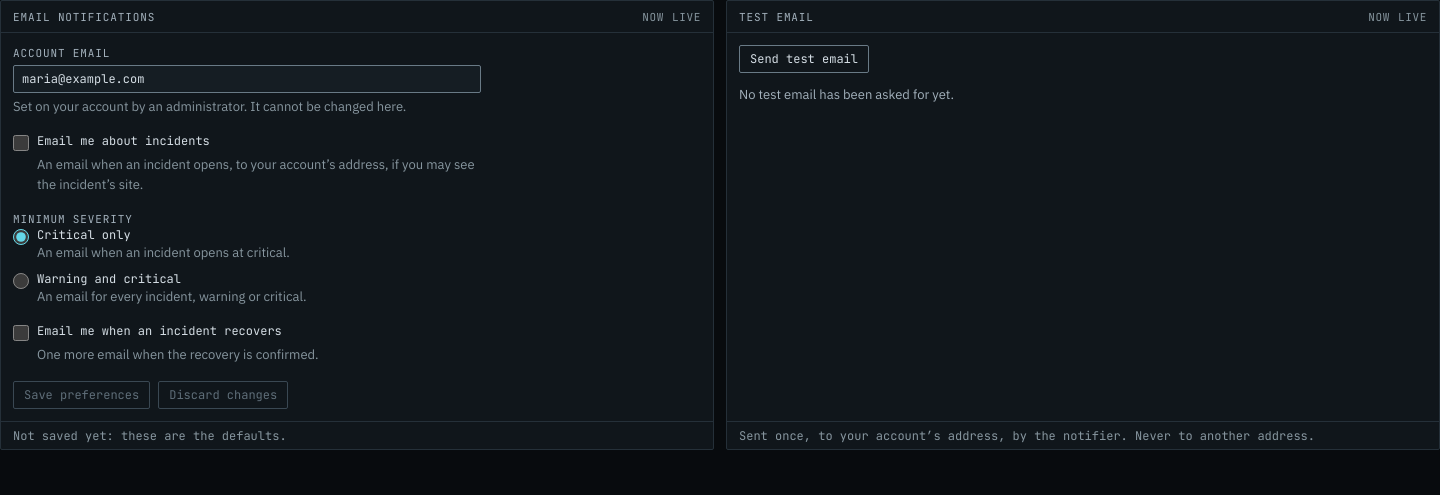
Test: saving the preferences › says what the server finds wrong with a field, under that field, and keeps the form as it was
This screenshot has width=1440, height=495.
Click the radio button labelled "Warning and critical": (21,281) [13,273,29,289]
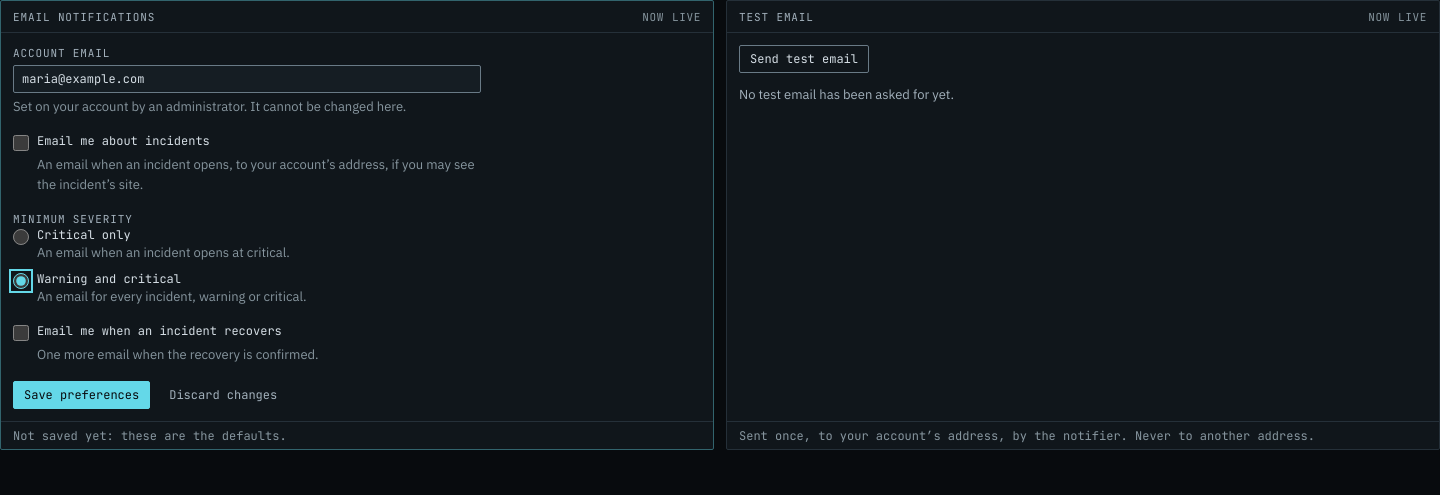
Click the button "Save preferences": (82,395) [13,381,150,409]
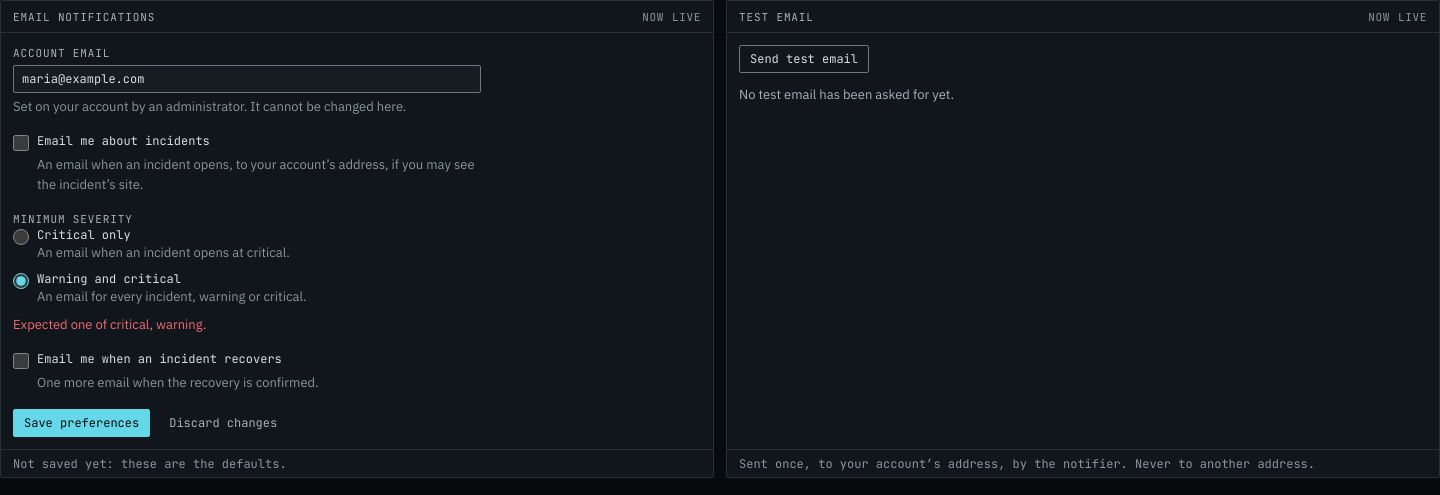
Now the radio button labelled "Warning and critical" is checked, box [13,273,29,289]
Now the button "Save preferences" is enabled, box [13,409,150,437]
Now the list item "Expected one of critical, warning." is shown, box [12,315,206,333]
